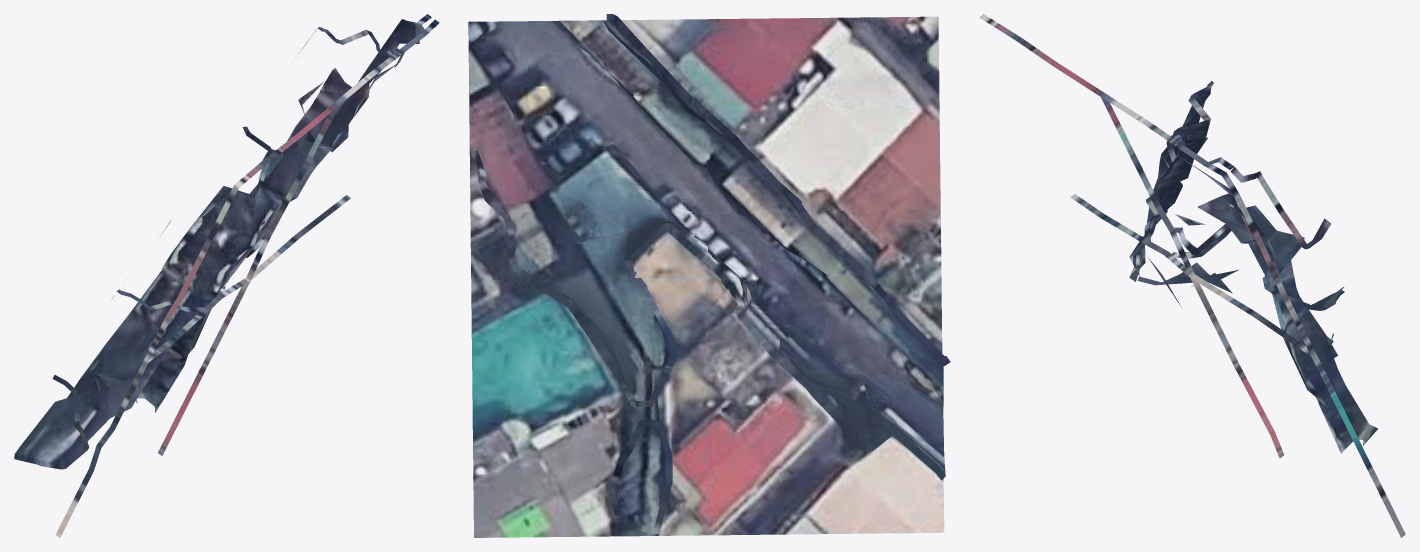
The picture shows the model from 3 angles, left to right: view 1: azimuth 30°, elevation 25°; view 2: azimuth 150°, elevation 25°; view 3: azimuth 270°, elevation 25°; orthographic projection. The views are drawn at different scales.
Bounding box in the file's own units: 39.94 × 37.64 × 32.66.
Materials: 1 (1 with a texture image).
